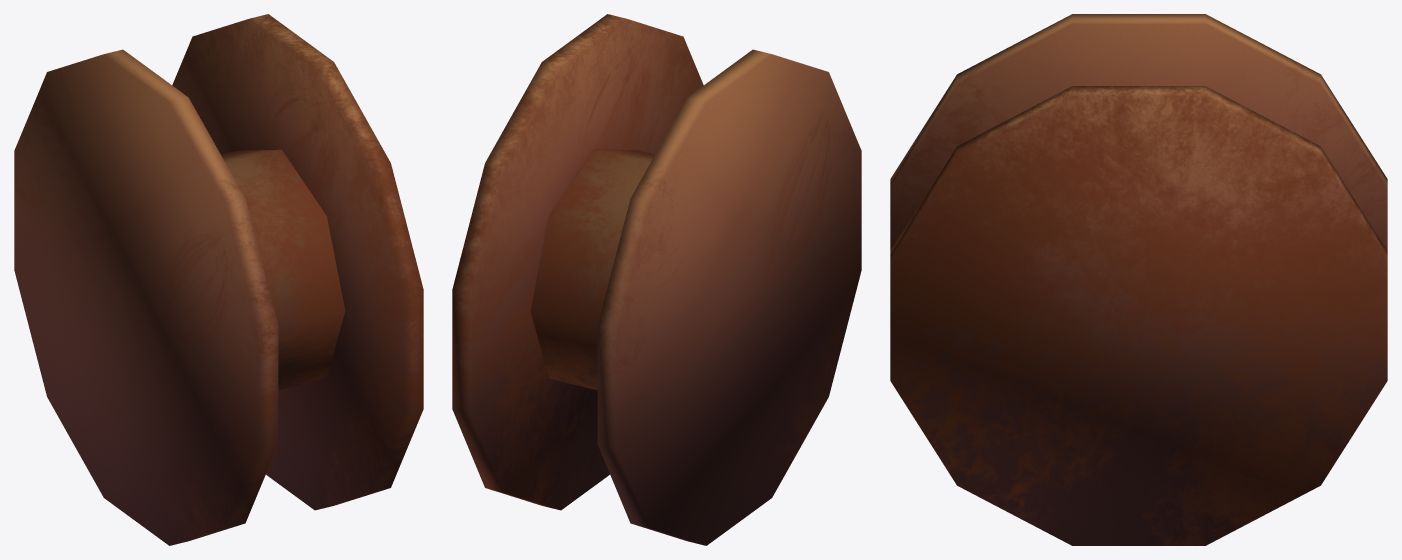
File: Reel.glb
3 views of the same model, side by side, from view 1: azimuth 30°, elevation 25°; view 2: azimuth 150°, elevation 25°; view 3: azimuth 270°, elevation 25° (orthographic).
Parts seen in each view (by area): view 1: Reel1; view 2: Reel1; view 3: Reel1.
Part boxes in pixels (<box>): Reel1: <box>14,14,423,545</box>; Reel1: <box>452,14,861,545</box>; Reel1: <box>890,14,1387,545</box>.
Bounding box in the file's own units: 0.7492 × 1.93 × 1.93.
1 material, 1 textured.
